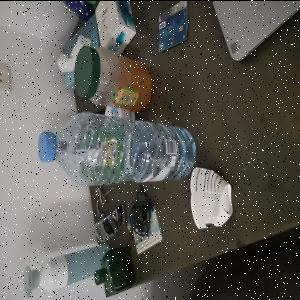Cup: (190, 167, 235, 232)
Plastic-bottle: (38, 110, 198, 188), (23, 242, 115, 300)
